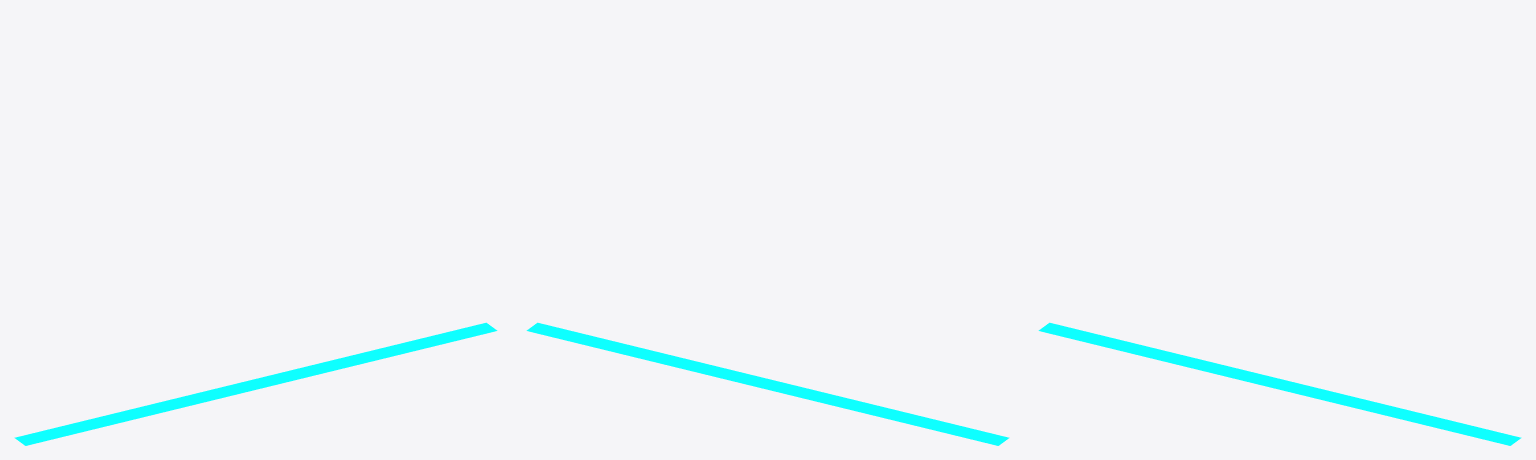
The model's file is GlassPartition.fbx.
The picture shows the model from 3 angles, left to right: view 1: azimuth 30°, elevation 25°; view 2: azimuth 150°, elevation 25°; view 3: azimuth 330°, elevation 25°; orthographic projection.
Visible parts, largest first — view 1: GlassPartition; view 2: GlassPartition; view 3: GlassPartition.
Part boxes in pixels (box(x1,y1,x2,y2)): GlassPartition: box(14, 322, 497, 445); GlassPartition: box(526, 322, 1009, 445); GlassPartition: box(1038, 322, 1521, 445).
Bounding box in the file's own units: 240 × 150 × 10.
Materials: 1 (1 with a texture image).
